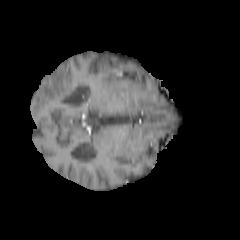glioma: (40, 68, 74, 102)
